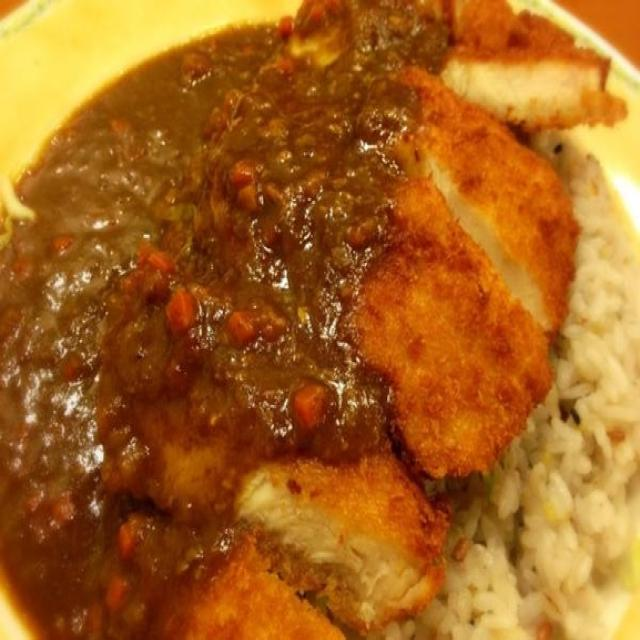鸡肉料理 含炸鸡: (20, 24, 619, 634)
